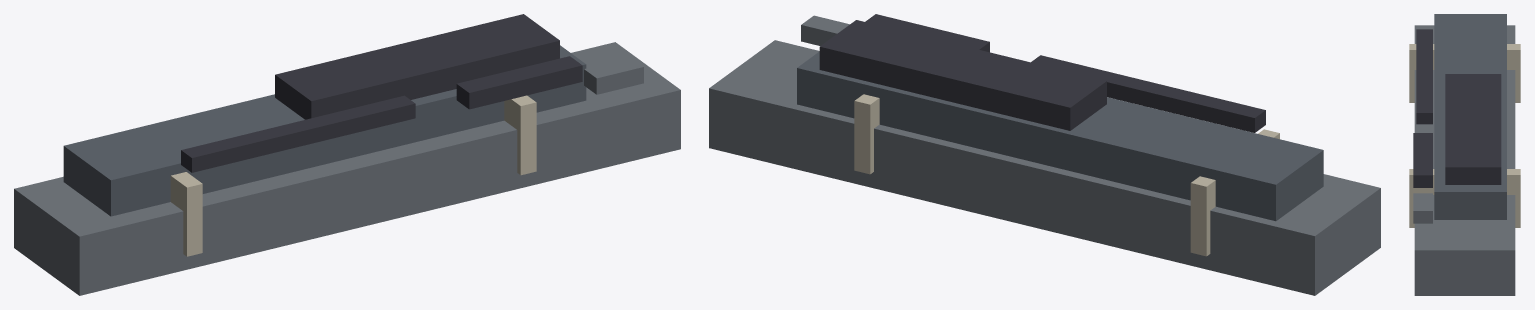
Rendered from scene__afterlightRidge.glb.
3 views of the same model, side by side, from view 1: azimuth 30°, elevation 25°; view 2: azimuth 150°, elevation 25°; view 3: azimuth 270°, elevation 25° (orthographic). The views are drawn at different scales.
Size of the model in its own units: 3.82 by 0.72 by 0.8.
